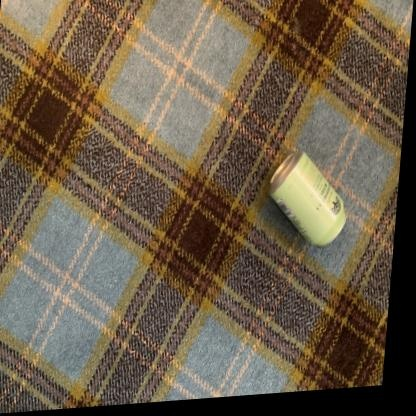trash: (270, 152, 345, 245)
